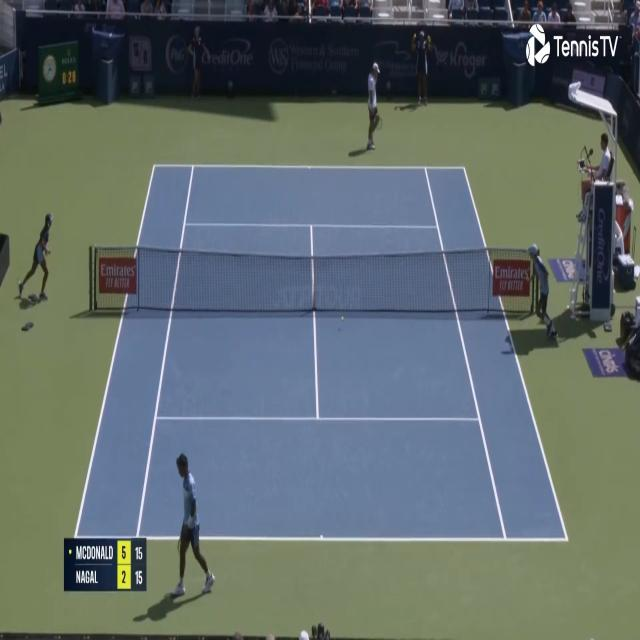tennis-player: (169, 448, 217, 604), (363, 58, 382, 154)
